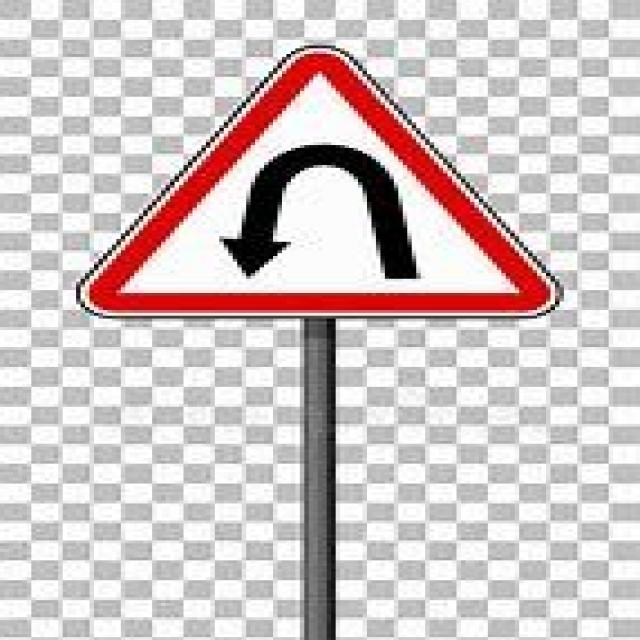LEFT_HAIR_PIN_BEND: (72, 42, 555, 316)
